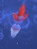active: (4, 2, 33, 42)
